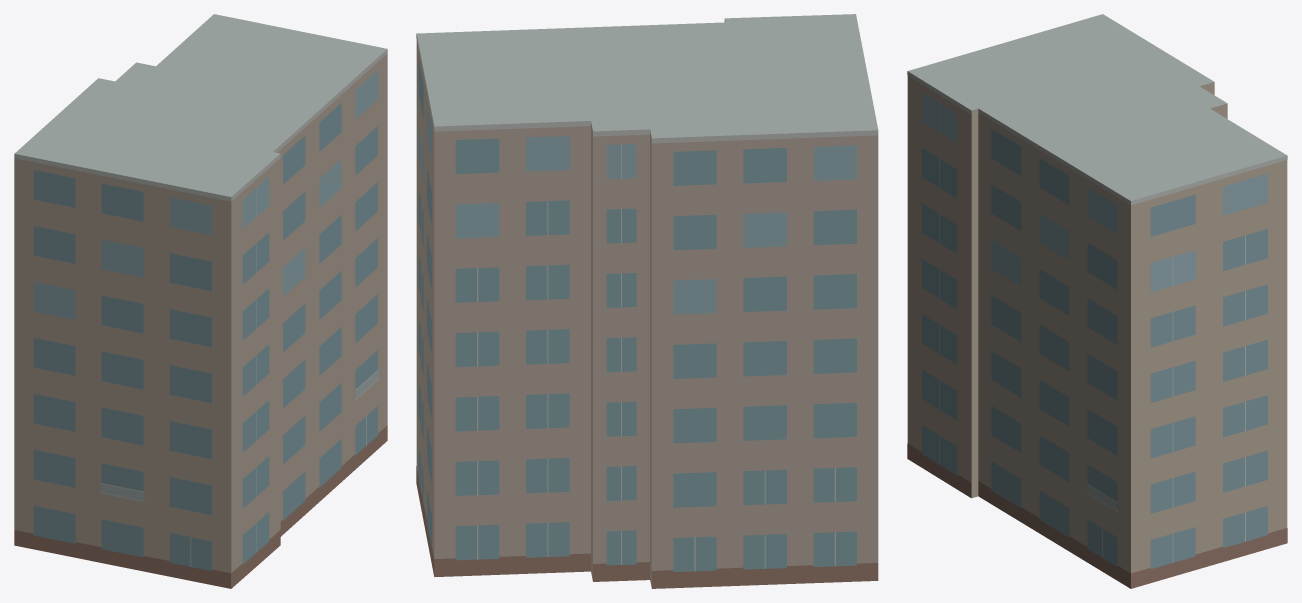
Rendered from survey-upis-32846025.glb.
3 renders of one model, left to right at view 1: azimuth 30°, elevation 25°; view 2: azimuth 150°, elevation 25°; view 3: azimuth 270°, elevation 25°, orthographic. The views are drawn at different scales.
Parts seen in each view (by area): view 1: survey-upis-32846025.tmp; view 2: survey-upis-32846025.tmp; view 3: survey-upis-32846025.tmp.
Boxes of the visible parts, x1=… form: survey-upis-32846025.tmp: x1=14, y1=14, x2=387, y2=588; survey-upis-32846025.tmp: x1=416, y1=14, x2=878, y2=588; survey-upis-32846025.tmp: x1=907, y1=14, x2=1287, y2=588.
Size of the model in its own units: 22.26 by 21.5 by 19.1.
